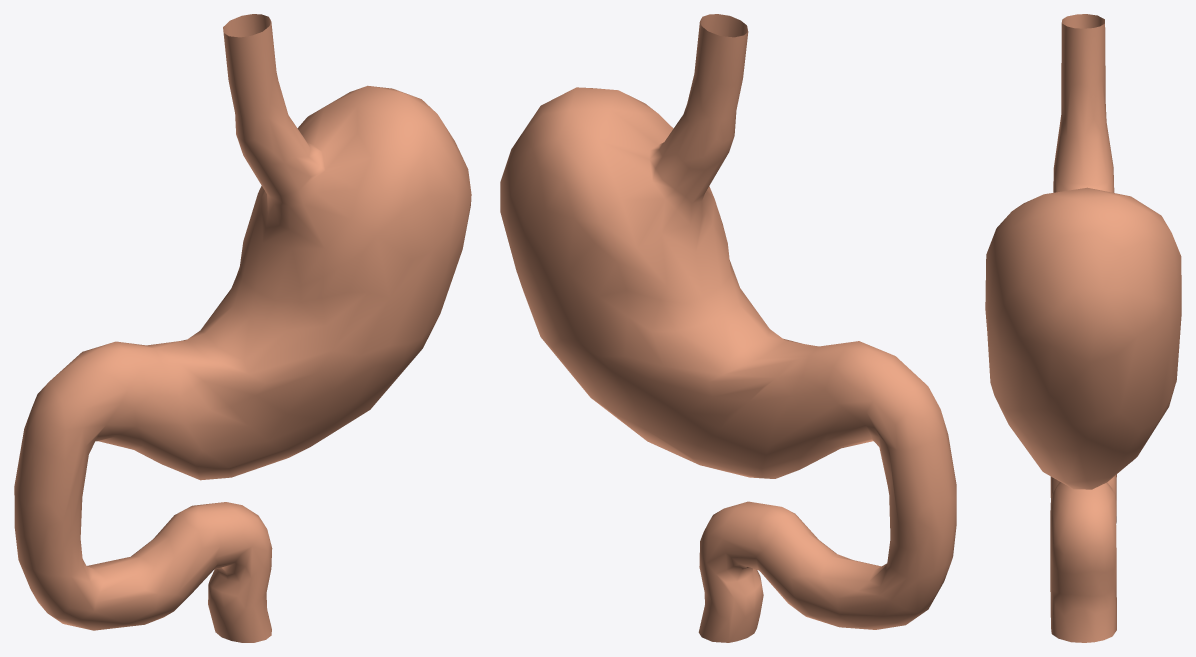
The model's file is Stomach.fbx.
The picture shows the model from 3 angles, left to right: view 1: azimuth 30°, elevation 25°; view 2: azimuth 150°, elevation 25°; view 3: azimuth 270°, elevation 25°; orthographic projection.
Visible parts, largest first — view 1: Stomach; view 2: Stomach; view 3: Stomach.
Boxes of the visible parts, x1,y1,x2,y2 form: Stomach: [14, 14, 471, 642]; Stomach: [500, 14, 956, 642]; Stomach: [985, 14, 1181, 642].
Size of the model in its own units: 14.28 by 18.78 by 5.43.
